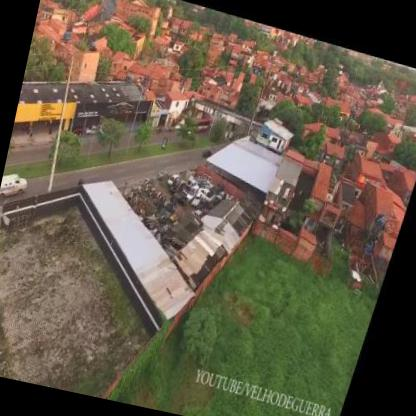lixo: (134, 179, 190, 235), (179, 165, 227, 213)
